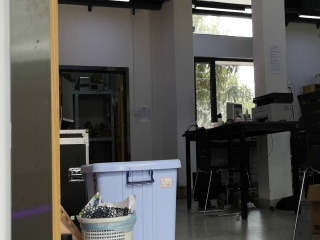room: (8, 5, 320, 238)
